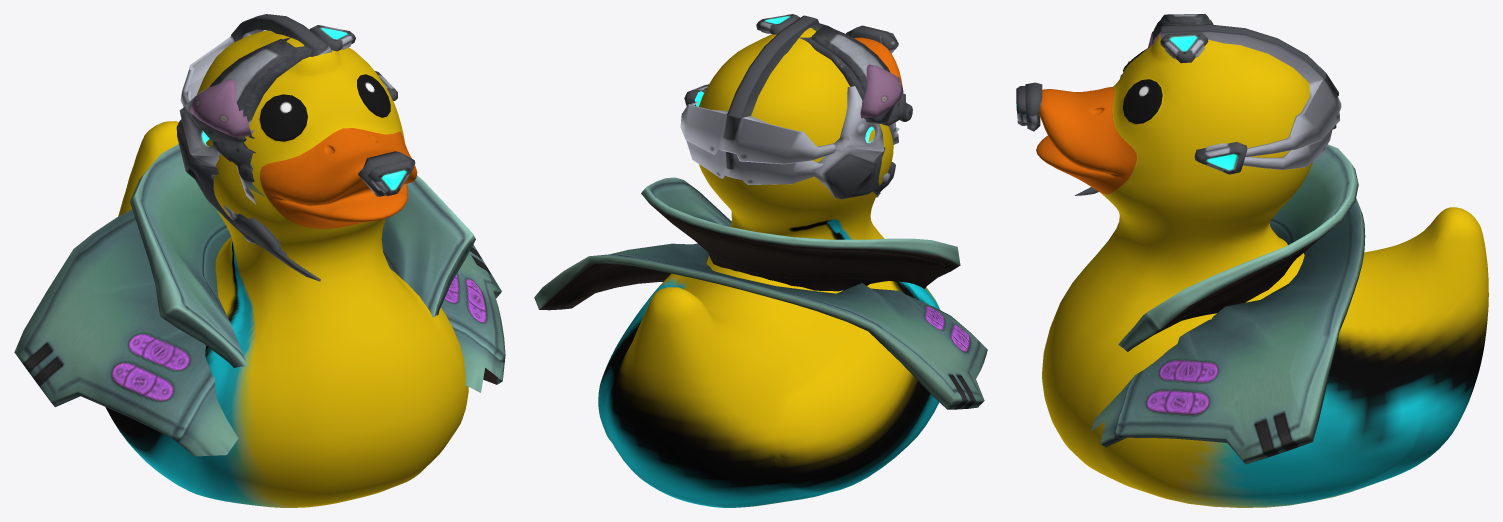
Rendered from cyberduck.glb.
The picture shows the model from 3 angles, left to right: view 1: azimuth 30°, elevation 25°; view 2: azimuth 150°, elevation 25°; view 3: azimuth 270°, elevation 25°; orthographic projection. The views are drawn at different scales.
Visible parts, largest first — view 1: Mesh_0, jacket, headwear; view 2: Mesh_0, jacket, headwear; view 3: Mesh_0, jacket, headwear.
Boxes of the visible parts, left/top/right/bottom form: Mesh_0: left=105, top=30, right=468, bottom=507; jacket: left=14, top=144, right=505, bottom=456; headwear: left=176, top=14, right=415, bottom=281; Mesh_0: left=598, top=27, right=940, bottom=507; jacket: left=534, top=177, right=987, bottom=409; headwear: left=680, top=14, right=912, bottom=199; Mesh_0: left=1036, top=34, right=1488, bottom=507; jacket: left=1090, top=144, right=1365, bottom=464; headwear: left=1016, top=14, right=1341, bottom=195.
Bounding box in the file's own units: 1.14 × 1.07 × 1.04.
3 materials, 3 textured.
